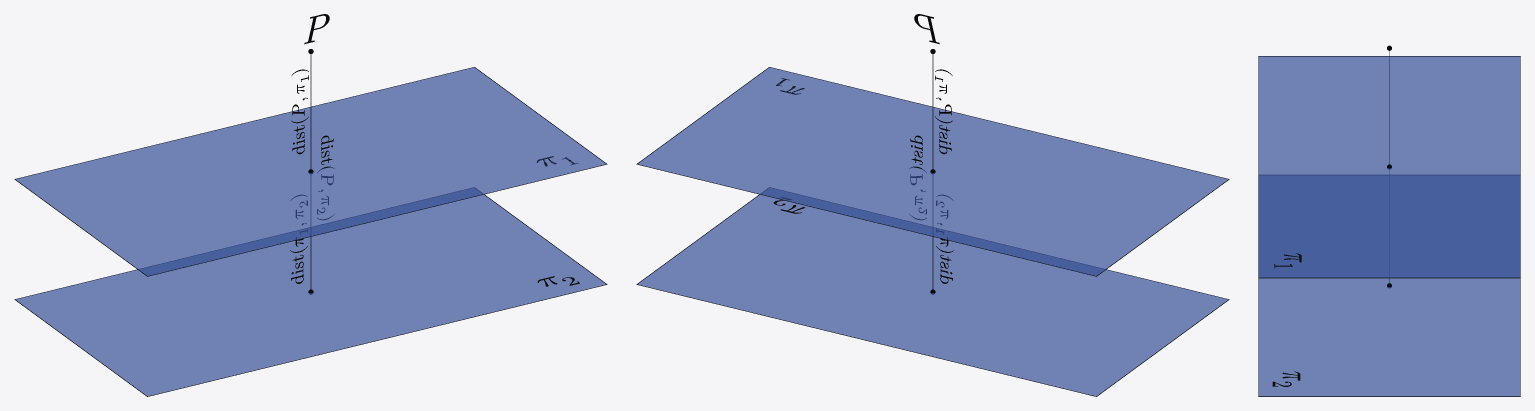
The picture shows the model from 3 angles, left to right: view 1: azimuth 30°, elevation 25°; view 2: azimuth 150°, elevation 25°; view 3: azimuth 270°, elevation 25°; orthographic projection.
Visible parts, largest first — view 1: Plano.001, Plano; view 2: Plano.001, Plano; view 3: Plano.001, Plano.
Part boxes in pixels (x1,y1,x2,y2): Plano.001: (14, 67, 607, 276); Plano: (14, 187, 607, 396); Plano.001: (636, 67, 1229, 276); Plano: (636, 187, 1229, 396); Plano.001: (1258, 56, 1520, 278); Plano: (1258, 175, 1520, 396).
Size of the model in its own units: 4.01 by 2.31 by 2.
